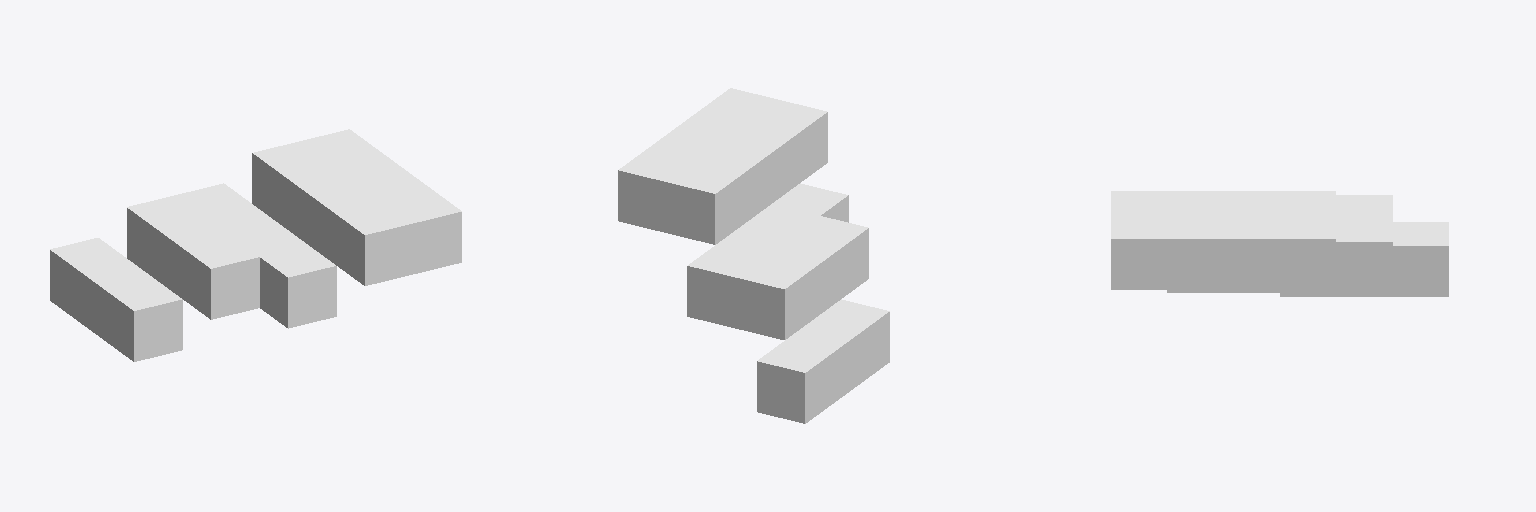
File: Extra-9-MeteorSlicer_Fin_R.obj
3 views of the same model, side by side, from view 1: azimuth 30°, elevation 25°; view 2: azimuth 150°, elevation 25°; view 3: azimuth 270°, elevation 25° (orthographic).
Parts seen in each view (by area): view 1: MeteorSlicer_Fin_R; view 2: MeteorSlicer_Fin_R; view 3: MeteorSlicer_Fin_R.
Part boxes in pixels (x1,y1,x2,y2): MeteorSlicer_Fin_R: (50,129,461,361); MeteorSlicer_Fin_R: (618,88,889,423); MeteorSlicer_Fin_R: (1111,191,1448,296).
Bounding box in the file's own units: 0.5 × 0.3 × 0.6.